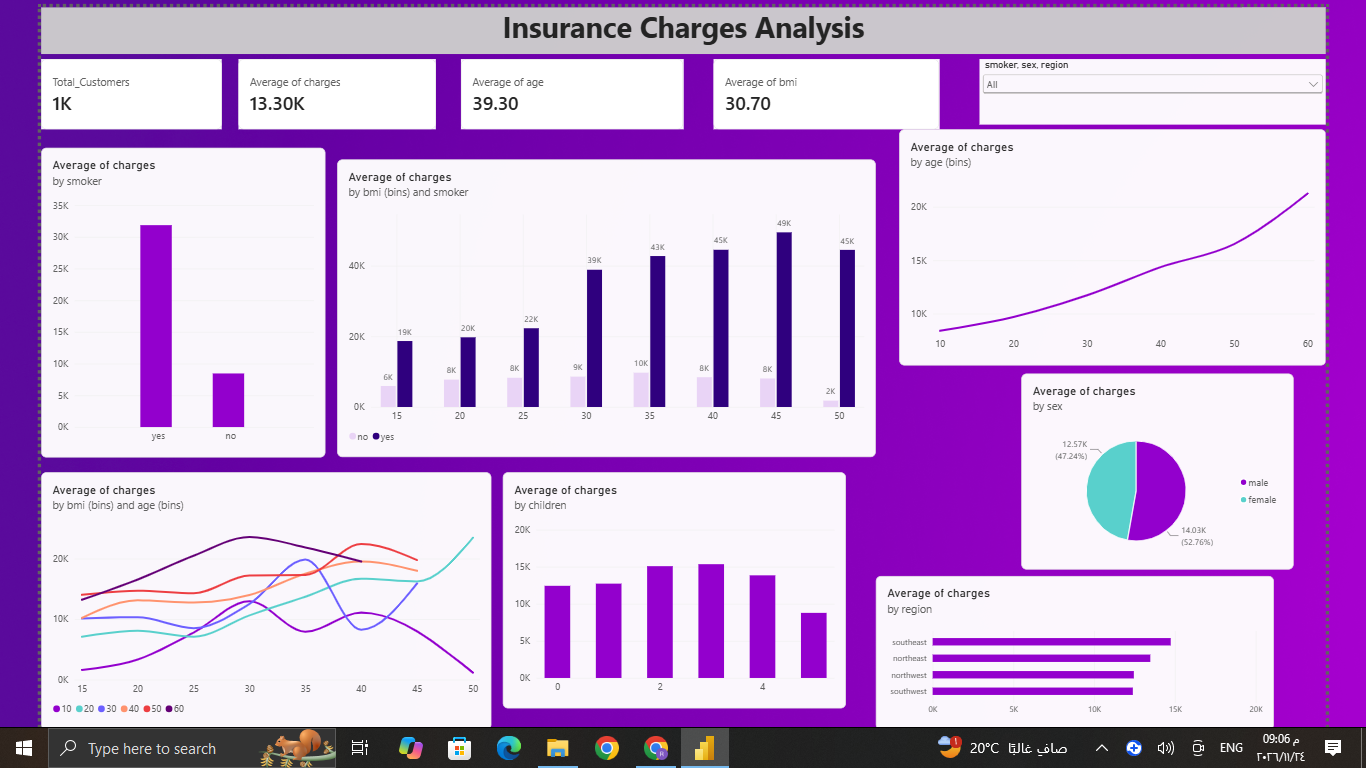

Layout of this report page (visuals, bound fields, positions):
{"tool":"powerbi","page":{"name":"Page 1","canvas":[1920,1080],"ordinal":0},"visuals":[{"type":"lineChart","fields":{"Category":["Cleaned_PowerBI.age (bins)"],"Y":["Avg(Cleaned_PowerBI.charges)"]},"box":[1282.5,182.5,637.5,352.5],"z":0},{"type":"clusteredColumnChart","fields":{"Category":["Cleaned_PowerBI.smoker"],"Y":["Avg(Cleaned_PowerBI.charges)"]},"box":[0,210,425,462.5],"z":1000},{"type":"barChart","fields":{"Category":["Cleaned_PowerBI.region"],"Y":["Avg(Cleaned_PowerBI.charges)"]},"box":[1247.5,850,595,230],"z":2000},{"type":"pieChart","fields":{"Category":["Cleaned_PowerBI.sex"],"Y":["Avg(Cleaned_PowerBI.charges)"]},"box":[1465.7,548.6,407.1,292.9],"z":3000},{"type":"columnChart","fields":{"Category":["Cleaned_PowerBI.children"],"Y":["Avg(Cleaned_PowerBI.charges)"]},"box":[690,695,512.5,352.5],"z":4000},{"type":"clusteredColumnChart","fields":{"Category":["Cleaned_PowerBI.bmi (bins)"],"Series":["Cleaned_PowerBI.smoker"],"Y":["Avg(Cleaned_PowerBI.charges)"]},"box":[442.5,227.5,805,445],"z":5000},{"type":"cardVisual","fields":{"Data":["Avg(Cleaned_PowerBI.charges)"]},"box":[295,77.5,295,105],"z":5001},{"type":"cardVisual","fields":{"Data":["Cleaned_PowerBI.Total_Customers"]},"box":[0,77.5,270,105],"z":5002},{"type":"cardVisual","fields":{"Data":["Avg(Cleaned_PowerBI.age)"]},"box":[627.5,77.5,332.5,105],"z":5003},{"type":"lineChart","fields":{"Category":["Cleaned_PowerBI.bmi (bins)"],"Series":["Cleaned_PowerBI.age (bins)"],"Y":["Avg(Cleaned_PowerBI.charges)"]},"box":[0,695,672.5,385],"z":5004},{"type":"slicer","fields":{"Values":["Cleaned_PowerBI.smoker","Cleaned_PowerBI.sex","Cleaned_PowerBI.region"]},"box":[1402.5,77.5,517.5,97.5],"z":5005},{"type":"textbox","box":[0,0,1920,70],"z":5010},{"type":"cardVisual","fields":{"Data":["Avg(Cleaned_PowerBI.bmi)"]},"box":[1005,77.5,337.5,105],"z":5011}]}

Visuals, with their boxes in screenshot pixels (x1, y1, x2, y2):
lineChart - Cleaned_PowerBI.age (bins) x Avg(Cleaned_PowerBI.charges): rect(900, 124, 1331, 362)
clusteredColumnChart - Cleaned_PowerBI.smoker x Avg(Cleaned_PowerBI.charges): rect(32, 142, 320, 455)
barChart - Cleaned_PowerBI.region x Avg(Cleaned_PowerBI.charges): rect(876, 575, 1279, 731)
pieChart - Cleaned_PowerBI.sex x Avg(Cleaned_PowerBI.charges): rect(1024, 371, 1299, 569)
columnChart - Cleaned_PowerBI.children x Avg(Cleaned_PowerBI.charges): rect(499, 470, 846, 709)
clusteredColumnChart - Cleaned_PowerBI.bmi (bins) x Cleaned_PowerBI.smoker: rect(331, 154, 876, 455)
cardVisual - Avg(Cleaned_PowerBI.charges): rect(232, 52, 431, 124)
cardVisual - Cleaned_PowerBI.Total_Customers: rect(32, 52, 215, 124)
cardVisual - Avg(Cleaned_PowerBI.age): rect(457, 52, 682, 124)
lineChart - Cleaned_PowerBI.bmi (bins) x Cleaned_PowerBI.age (bins): rect(32, 470, 487, 731)
slicer - Cleaned_PowerBI.smoker x Cleaned_PowerBI.sex: rect(981, 52, 1331, 118)
textbox: rect(32, 0, 1331, 47)
cardVisual - Avg(Cleaned_PowerBI.bmi): rect(712, 52, 941, 124)
